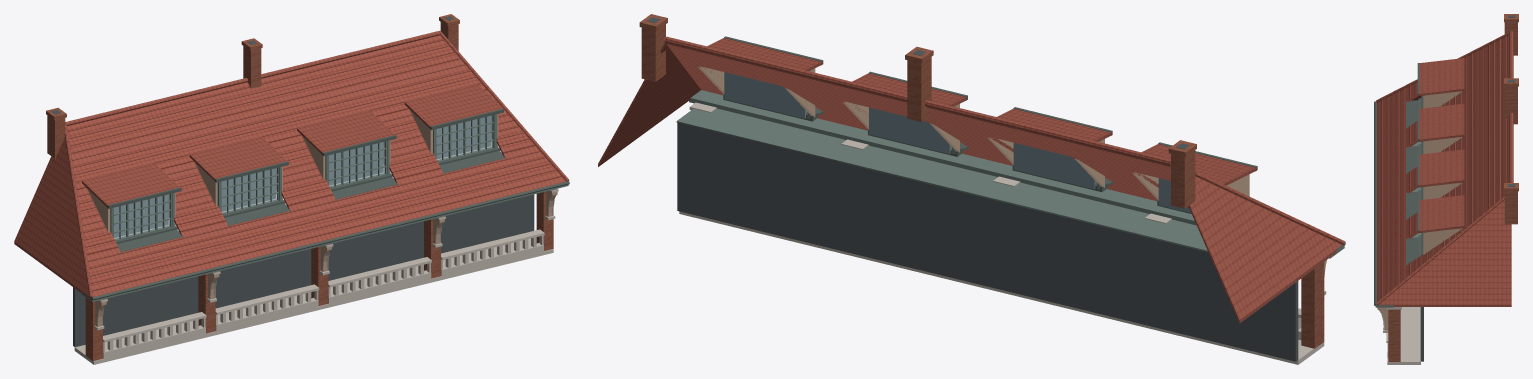
File: changning-xinhuacun-14-dormer-roof-web.glb
3 views of the same model, side by side, from view 1: azimuth 30°, elevation 25°; view 2: azimuth 150°, elevation 25°; view 3: azimuth 270°, elevation 25° (orthographic). The views are drawn at different scales.
Visible parts, largest first — view 1: 新华村14号楼南坡四座老虎窗; view 2: 新华村14号楼南坡四座老虎窗; view 3: 新华村14号楼南坡四座老虎窗.
Boxes of the visible parts, bbox=[...] form: 新华村14号楼南坡四座老虎窗: bbox=[14, 14, 569, 364]; 新华村14号楼南坡四座老虎窗: bbox=[598, 14, 1345, 364]; 新华村14号楼南坡四座老虎窗: bbox=[1374, 14, 1518, 364].
Size of the model in its own units: 22.26 by 9.5 by 6.69.
Materials: 9 (2 with a texture image).
